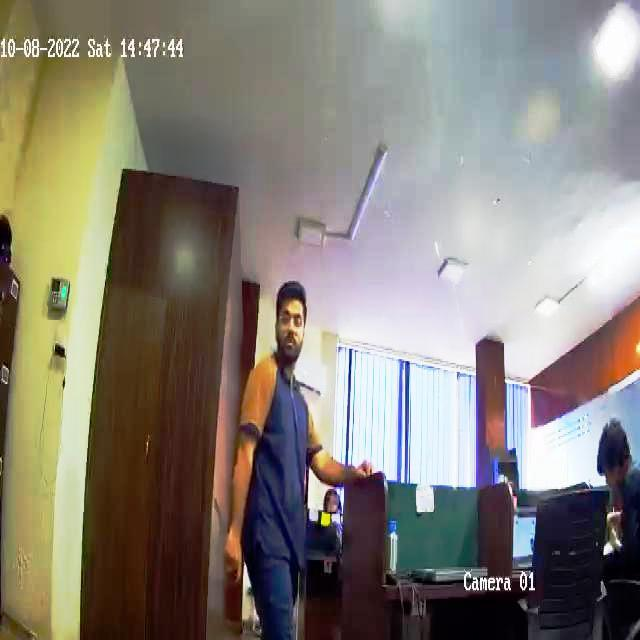Knife: (209, 492, 253, 578)
